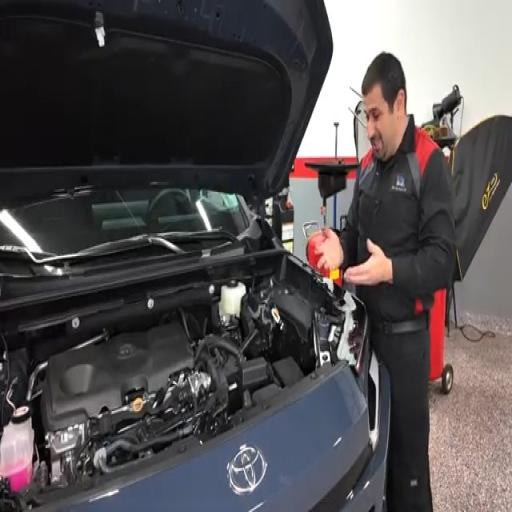bumper: (59, 366, 389, 511), (340, 366, 390, 511)
emblem: (228, 446, 267, 494)
hood: (0, 0, 332, 204)
windshield: (0, 187, 247, 254)
